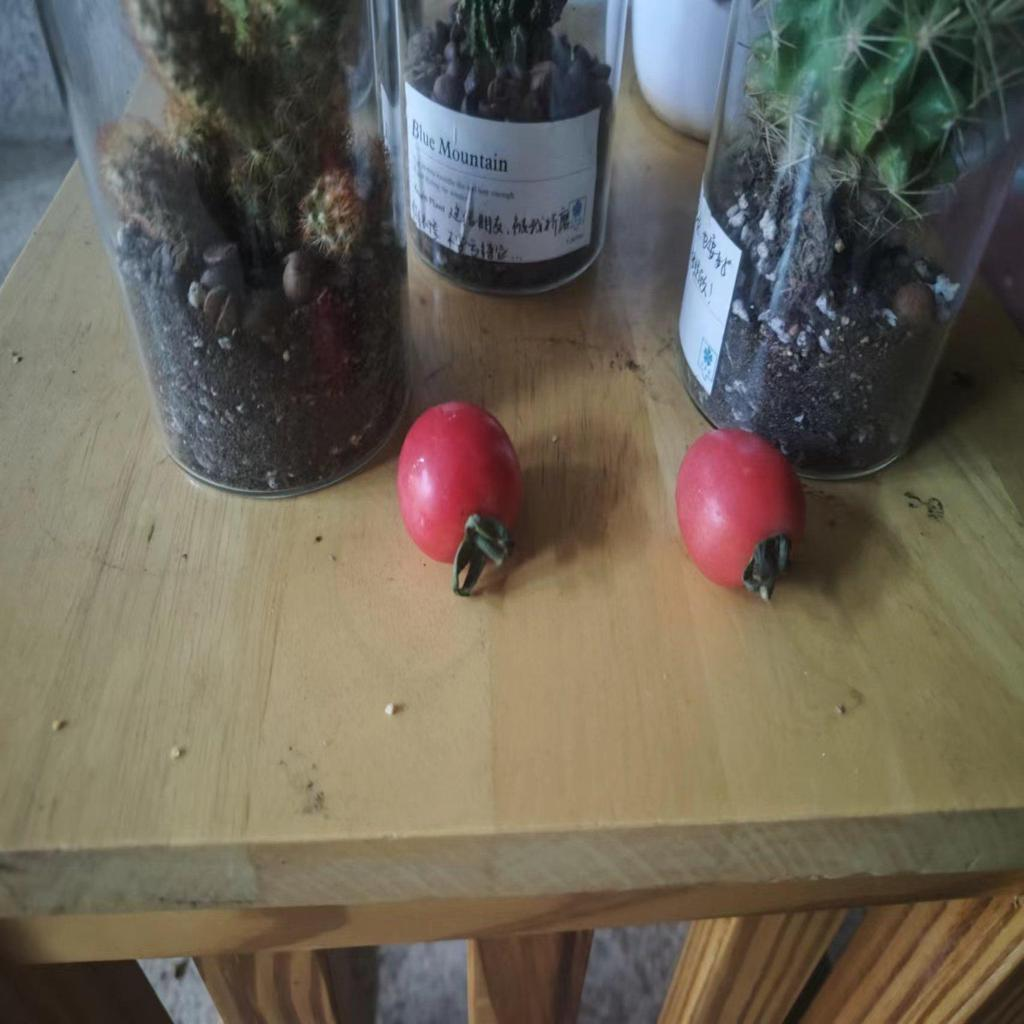tomato: (390, 399, 530, 577), (679, 419, 812, 605)
